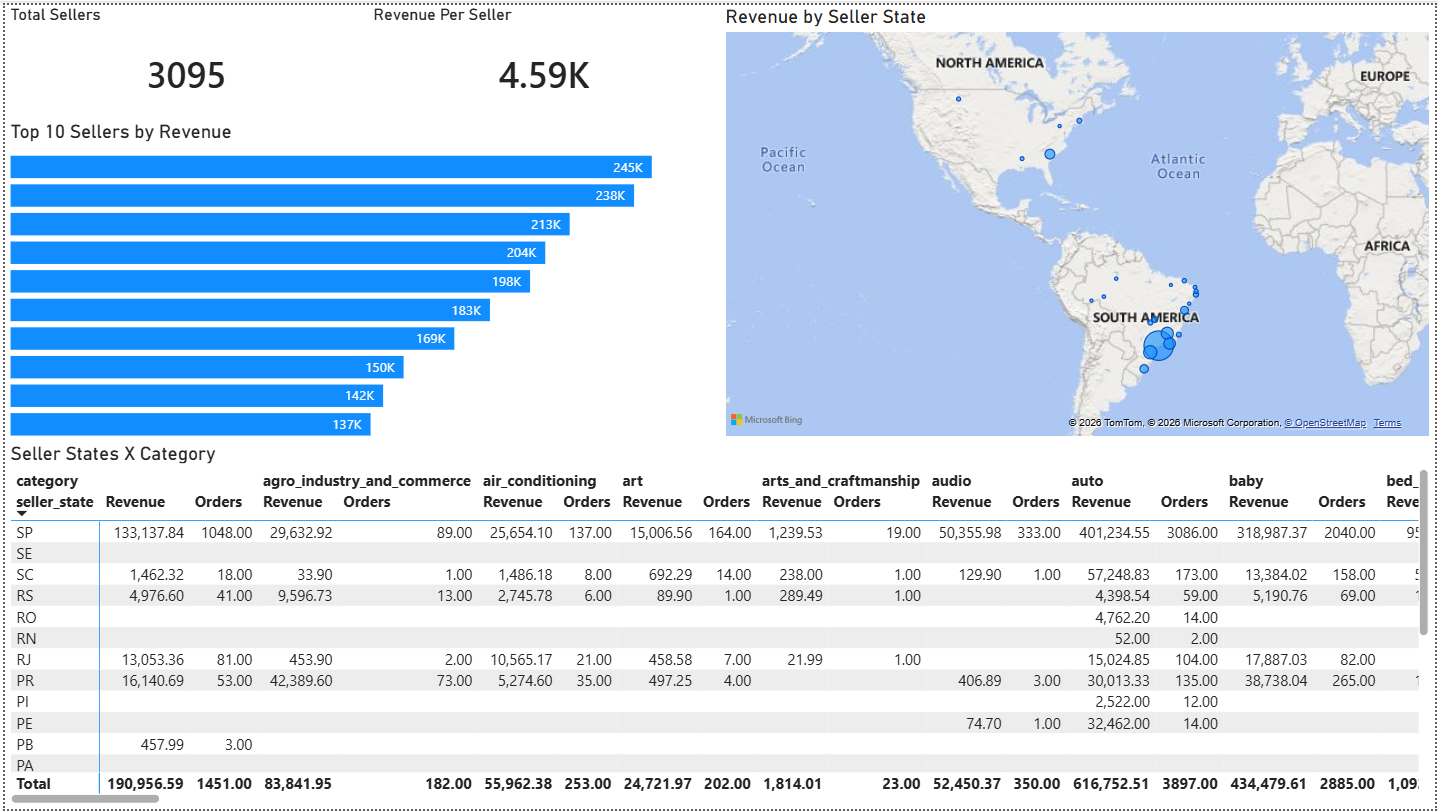

The page's visual inventory and layout, read from the dashboard file:
{"tool":"powerbi","page":{"name":"Seller","canvas":[1280,720],"ordinal":7},"visuals":[{"type":"cardVisual","title":"Revenue Per Seller","fields":{"Data":["public bi_fact_sales.Revenue per Seller"]},"box":[325,0,315,103],"z":0},{"type":"cardVisual","title":"Total Sellers","fields":{"Data":["public bi_fact_sales.Sellers"]},"box":[0,0,325,103],"z":1000},{"type":"barChart","title":"Top 10 Sellers by Revenue","fields":{"Y":["public bi_fact_sales.Revenue"],"Category":["public bi_fact_sales.seller_id"]},"box":[0,103,640,288],"z":2000},{"type":"map","title":"Revenue by Seller State","fields":{"Size":["public bi_fact_sales.Revenue"],"Category":["public bi_fact_sales.seller_state"]},"box":[640,0,640,391],"z":3000},{"type":"pivotTable","title":"Seller States X Category","fields":{"Columns":["public bi_fact_sales.category"],"Values":["public bi_fact_sales.Revenue","public bi_fact_sales.Orders"],"Rows":["public bi_fact_sales.seller_state"]},"box":[0,391,1280,329],"z":4000}]}

Visuals, with their boxes in screenshot pixels (x1, y1, x2, y2), scaled from the page's 1280x720 canvas onto the 1438x811 screenshot:
"Revenue Per Seller" cardVisual: crop(365, 0, 719, 116)
"Total Sellers" cardVisual: crop(0, 0, 365, 116)
"Top 10 Sellers by Revenue" barChart: crop(0, 116, 719, 440)
"Revenue by Seller State" map: crop(719, 0, 1437, 440)
"Seller States X Category" pivotTable: crop(0, 440, 1437, 810)
